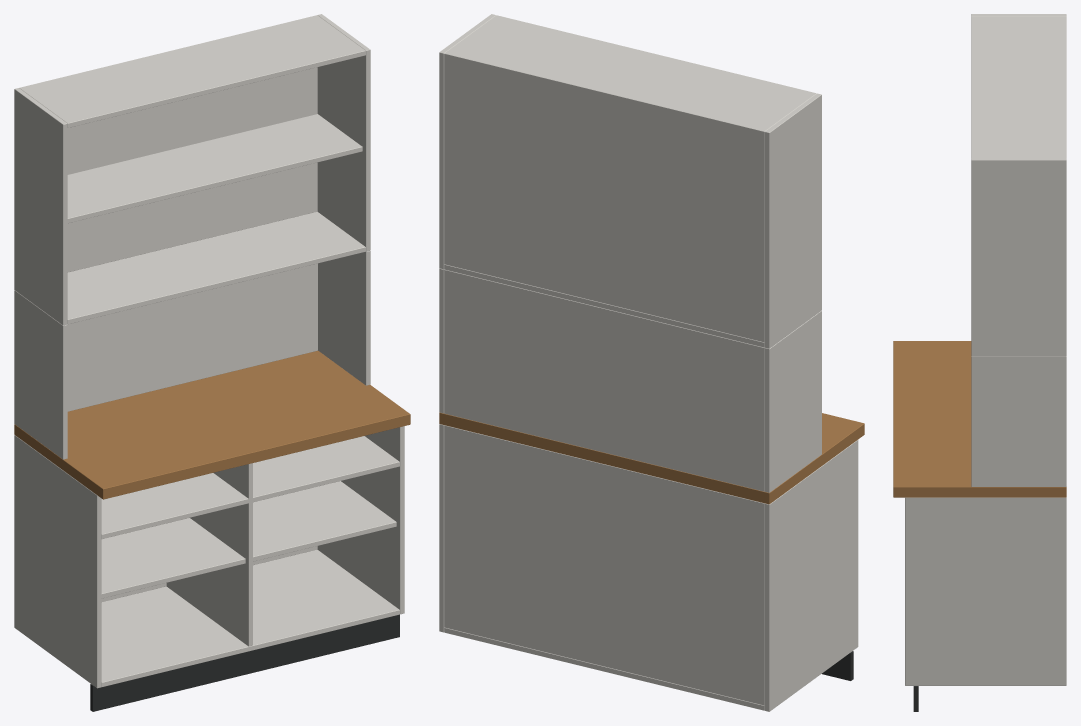
Rendered from kitchen_dresser_body.glb.
The picture shows the model from 3 angles, left to right: view 1: azimuth 30°, elevation 25°; view 2: azimuth 150°, elevation 25°; view 3: azimuth 270°, elevation 25°; orthographic projection. The views are drawn at different scales.
Visible parts, largest first — view 1: kitchen_dresser_body; view 2: kitchen_dresser_body; view 3: kitchen_dresser_body.
Boxes of the visible parts, bbox=[...] form: kitchen_dresser_body: bbox=[14, 14, 410, 711]; kitchen_dresser_body: bbox=[439, 14, 864, 711]; kitchen_dresser_body: bbox=[893, 14, 1066, 711].
Bounding box in the file's own units: 1.2 × 2.11 × 0.6.
